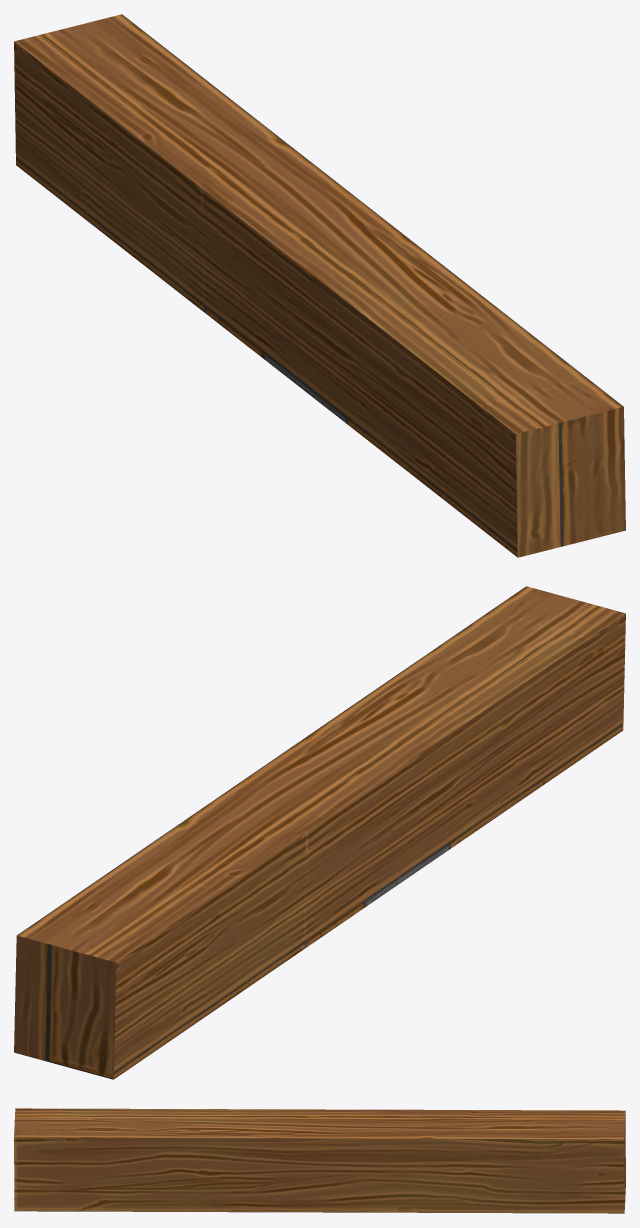
3 views of the same model, one above another, from view 1: azimuth 30°, elevation 25°; view 2: azimuth 150°, elevation 25°; view 3: azimuth 270°, elevation 25° (orthographic). The views are drawn at different scales.
Visible parts, largest first — view 1: Cube.1145; view 2: Cube.1145; view 3: Cube.1145.
Part boxes in pixels (x1,y1,x2,y2): Cube.1145: (14,14,625,557); Cube.1145: (14,586,625,1079); Cube.1145: (14,1108,625,1213).
Size of the model in its own units: 41.54 by 40.76 by 291.
1 material, 1 textured.
